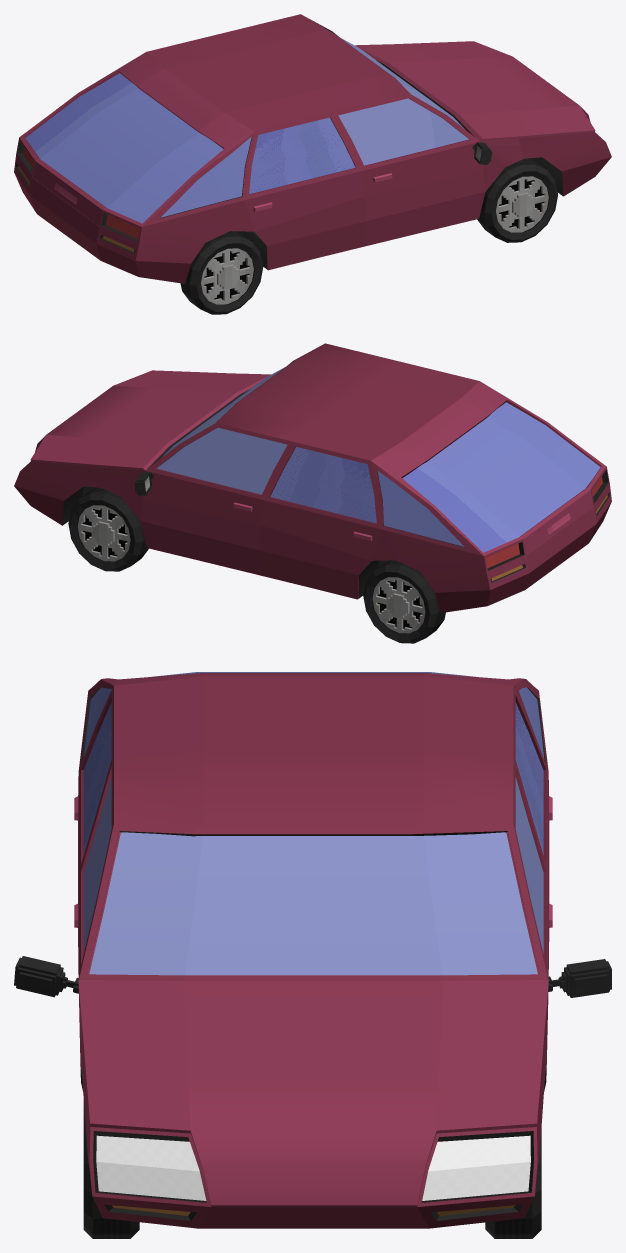
Rendered from Cherry_Flare_EV_Toy.fbx.
The picture shows the model from 3 angles, top to bottom: view 1: azimuth 30°, elevation 25°; view 2: azimuth 150°, elevation 25°; view 3: azimuth 270°, elevation 25°; orthographic projection. The views are drawn at different scales.
Visible parts, largest first — view 1: Cherry_Flare_Toy, Tire_RR, Tire_FR; view 2: Cherry_Flare_Toy, Tire_RL, Tire_FL; view 3: Cherry_Flare_Toy, Tire_FR, Tire_FL.
Boxes of the visible parts, x1,y1,x2,y2 form: Cherry_Flare_Toy: (14, 14, 611, 283); Tire_RR: (180, 231, 263, 314); Tire_FR: (477, 158, 557, 242); Cherry_Flare_Toy: (14, 343, 611, 612); Tire_RL: (363, 560, 445, 643); Tire_FL: (68, 487, 148, 571); Cherry_Flare_Toy: (14, 672, 611, 1228); Tire_FR: (83, 1100, 139, 1238); Tire_FL: (485, 1128, 541, 1238).
Size of the model in its own units: 272 by 89.39 by 153.
4 materials, 4 textured.
